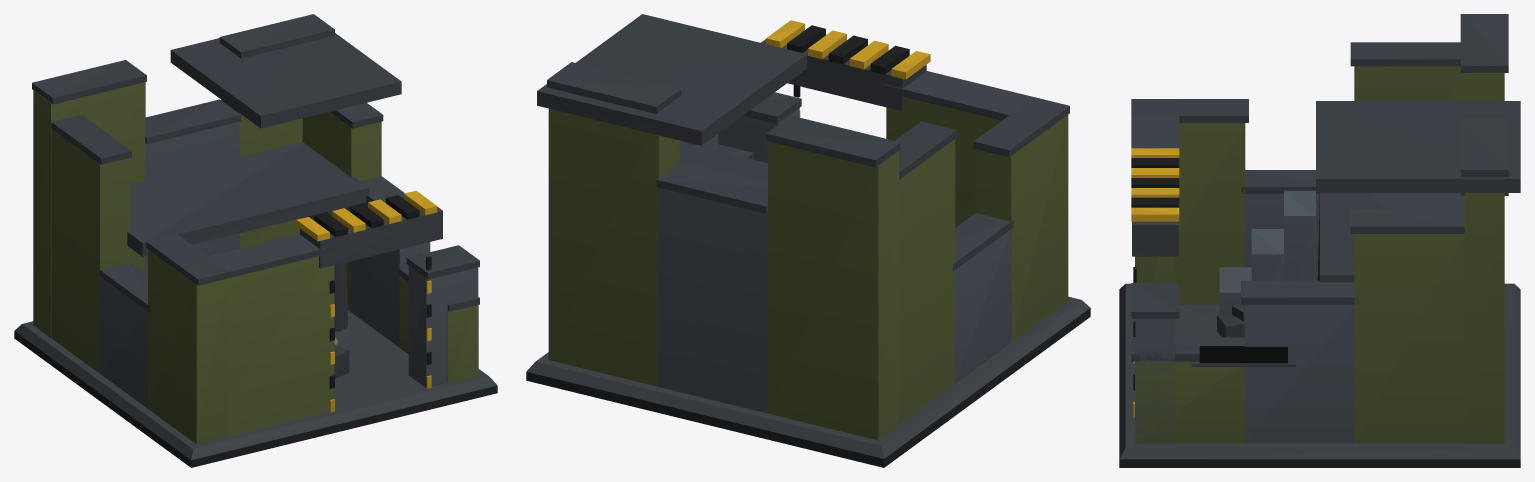
Rendered from outpost-comm-tower.glb.
3 views of the same model, side by side, from view 1: azimuth 30°, elevation 25°; view 2: azimuth 150°, elevation 25°; view 3: azimuth 270°, elevation 25° (orthographic). The views are drawn at different scales.
Bounding box in the file's own units: 5 × 4 × 5.
